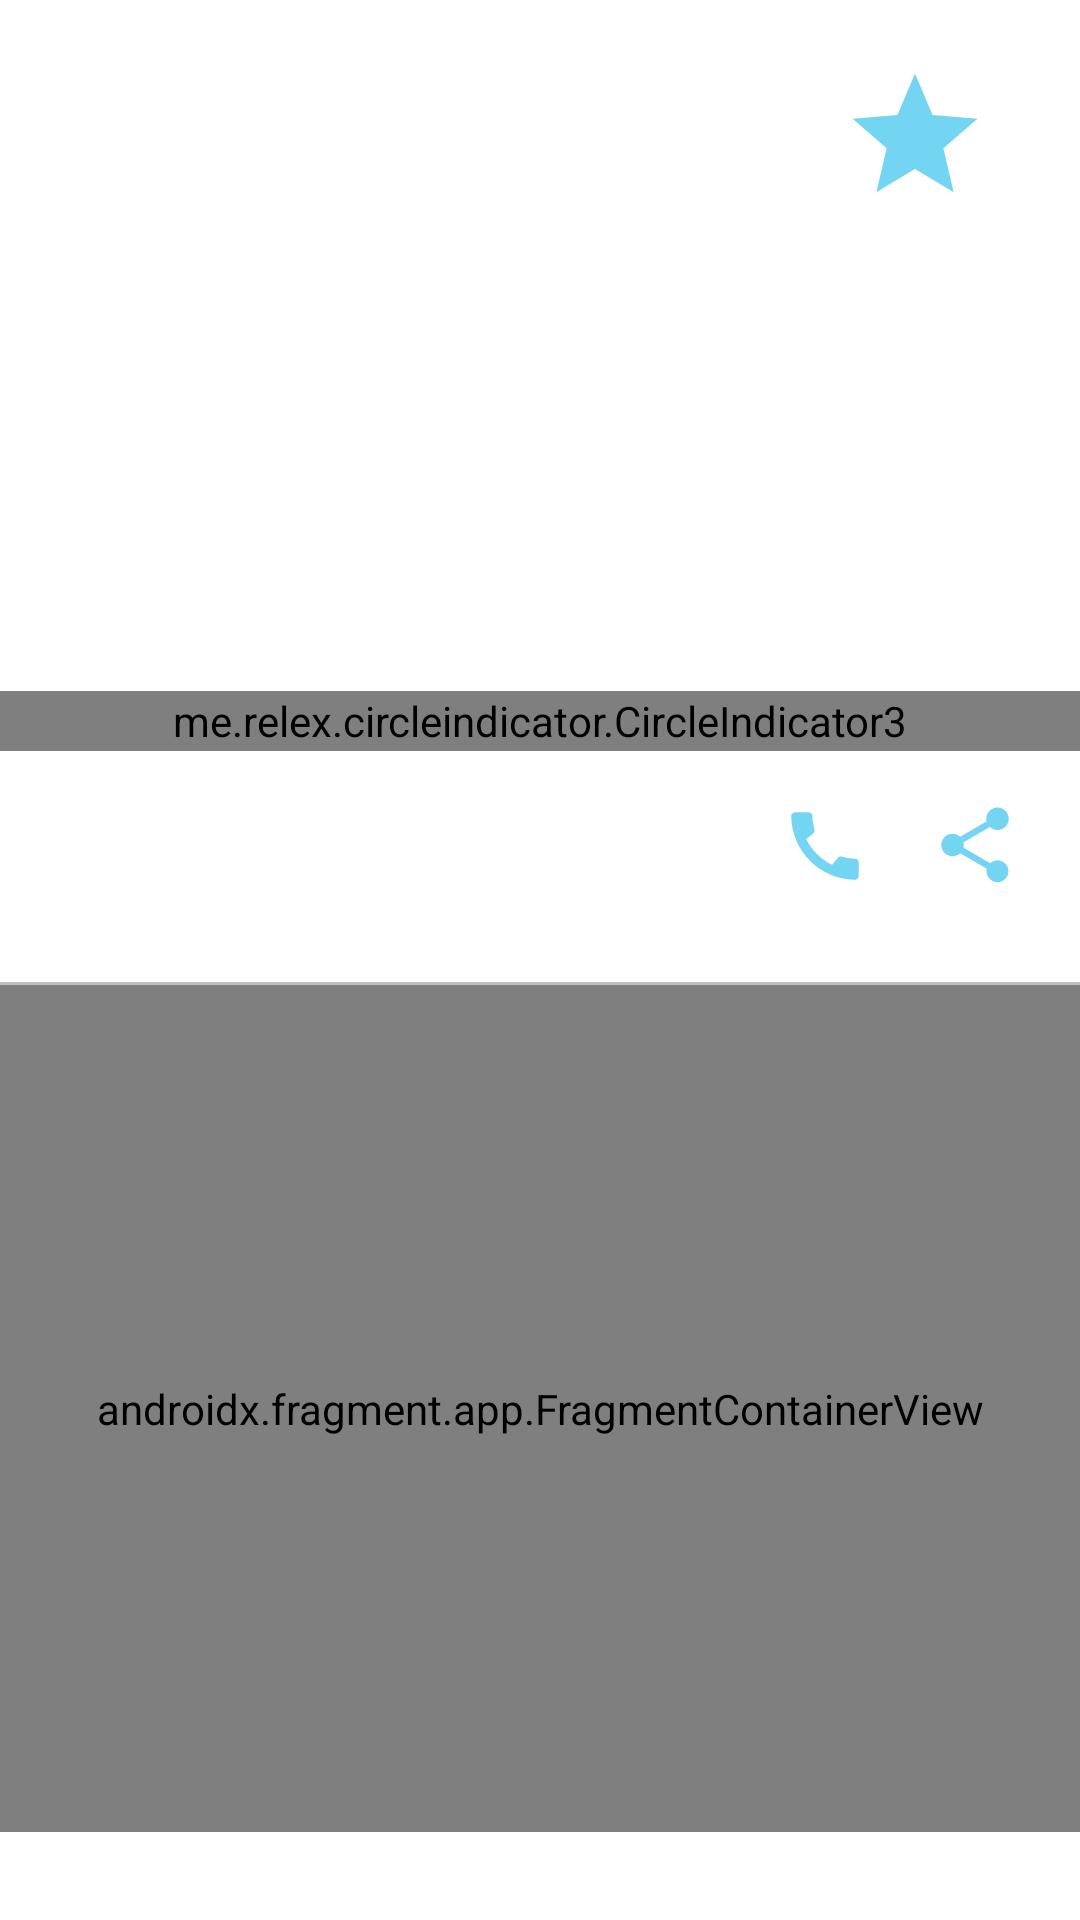

Point at icon controls on the screen. Image size 1080 × 1920, points as point (x, y).
call: point (825, 846)
share: point (975, 845)
star: point (915, 133)
